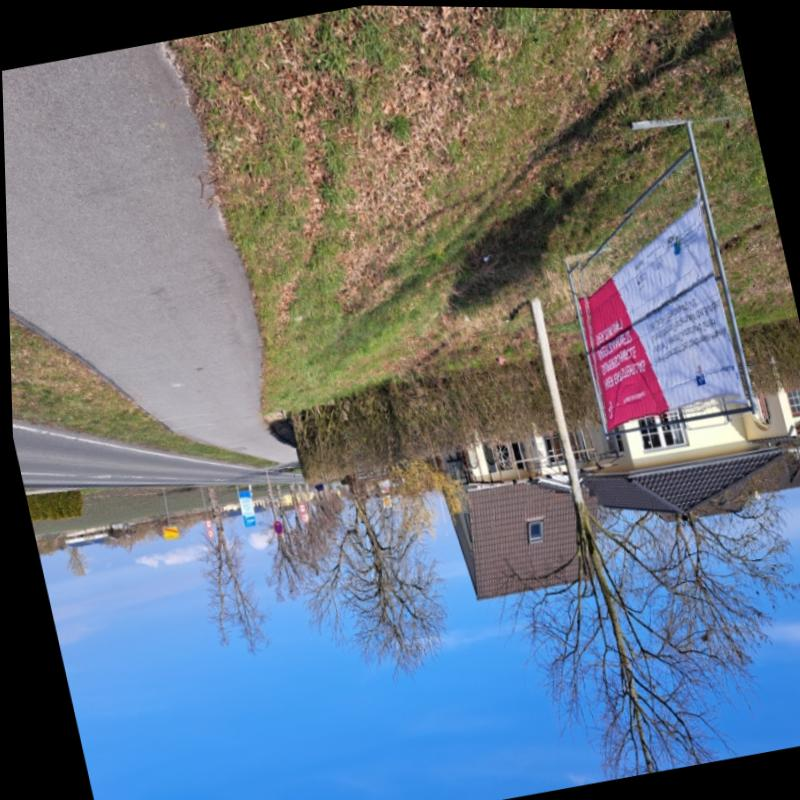Banner: (581, 199, 738, 430)
